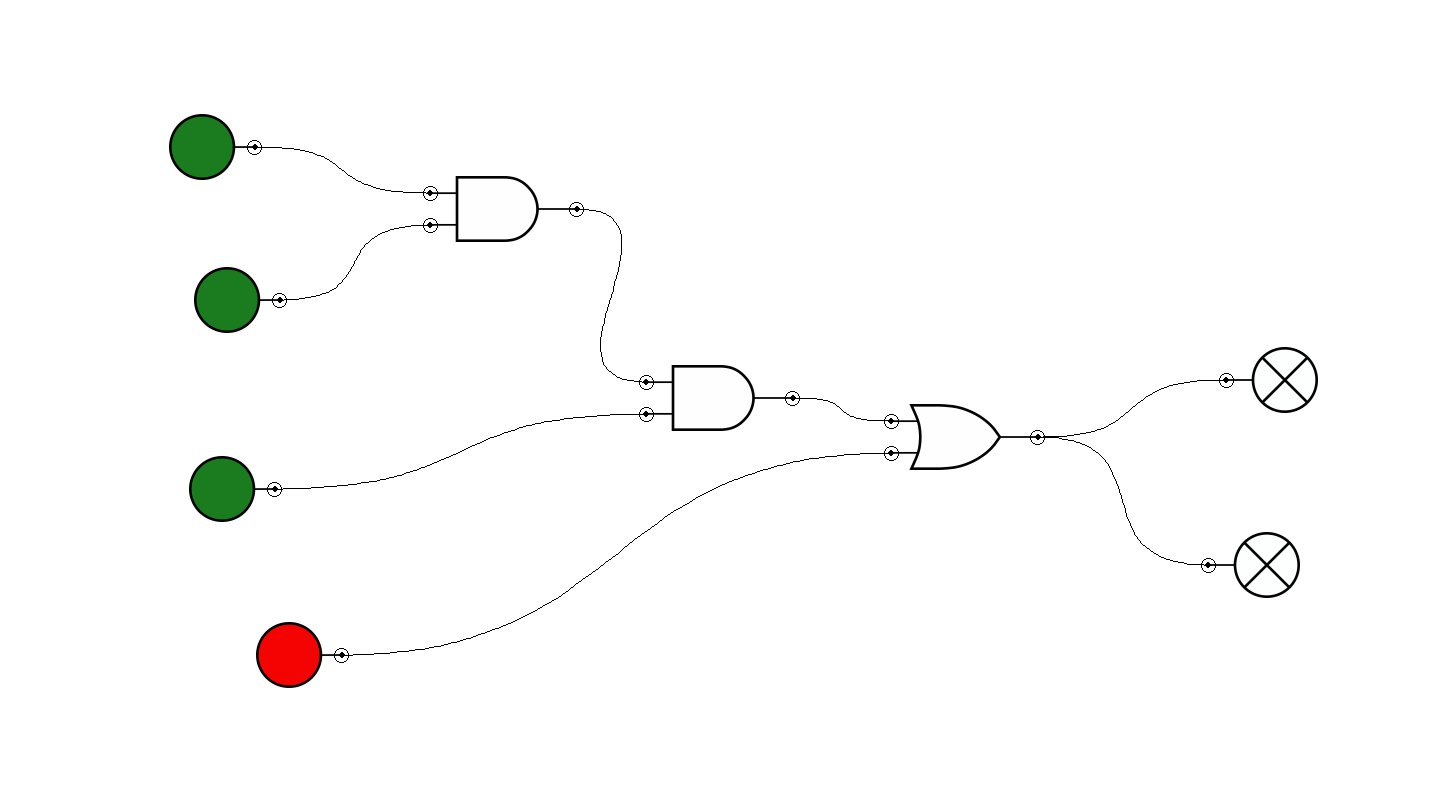and: (639, 365, 800, 431), (423, 176, 584, 242)
bulb: (1219, 347, 1318, 413), (1201, 532, 1300, 598)
or: (884, 404, 1045, 470)
switch_False: (256, 622, 349, 688)
switch_True: (169, 114, 262, 180), (194, 267, 287, 333), (189, 456, 282, 522)
